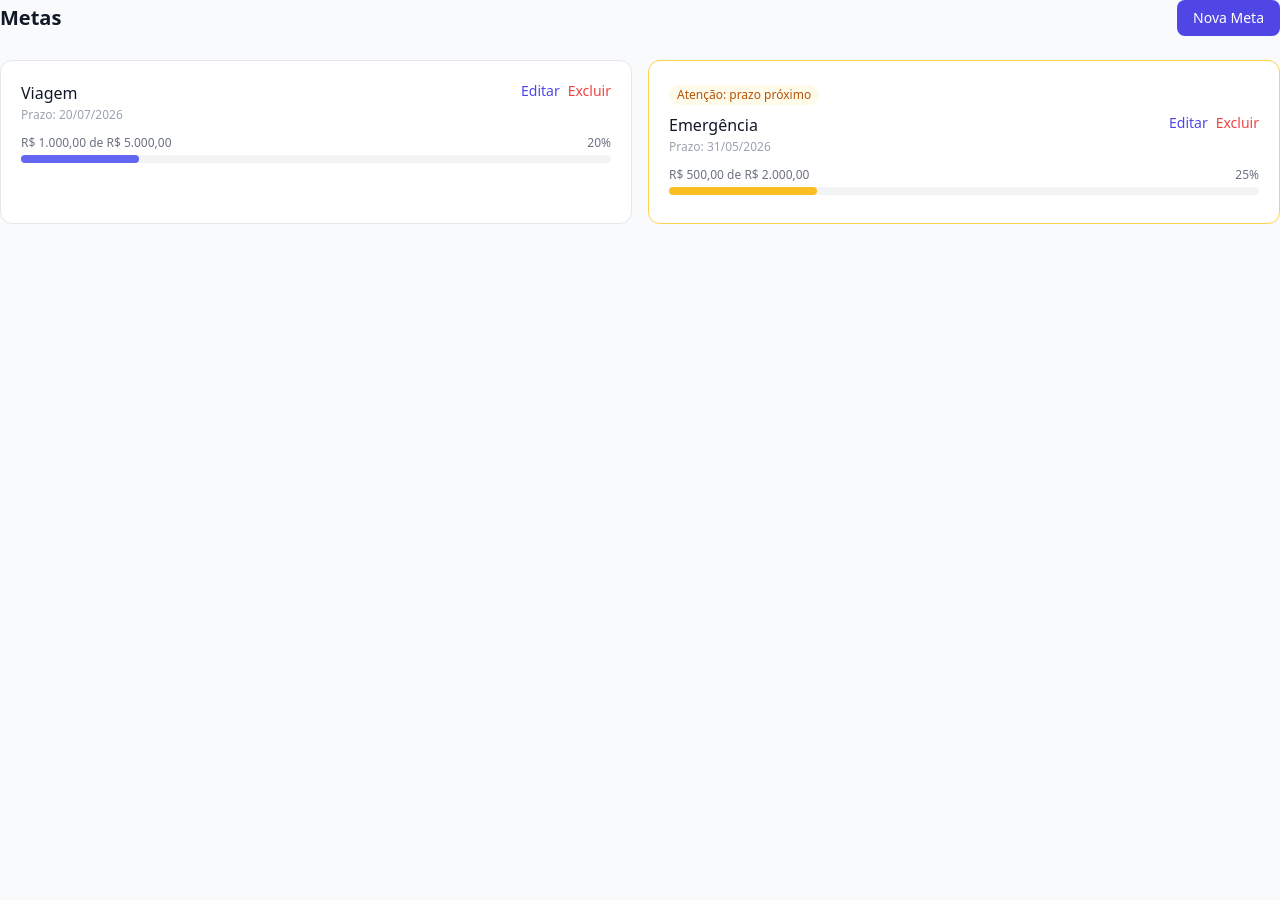
Goals page › opens modal when "Nova Meta" is clicked
expect the text "Viagem" is shown: met, box [21,82,78,104]
Click the button "Nova Meta".
click(1228, 18)  # box [1177,0,1279,36]
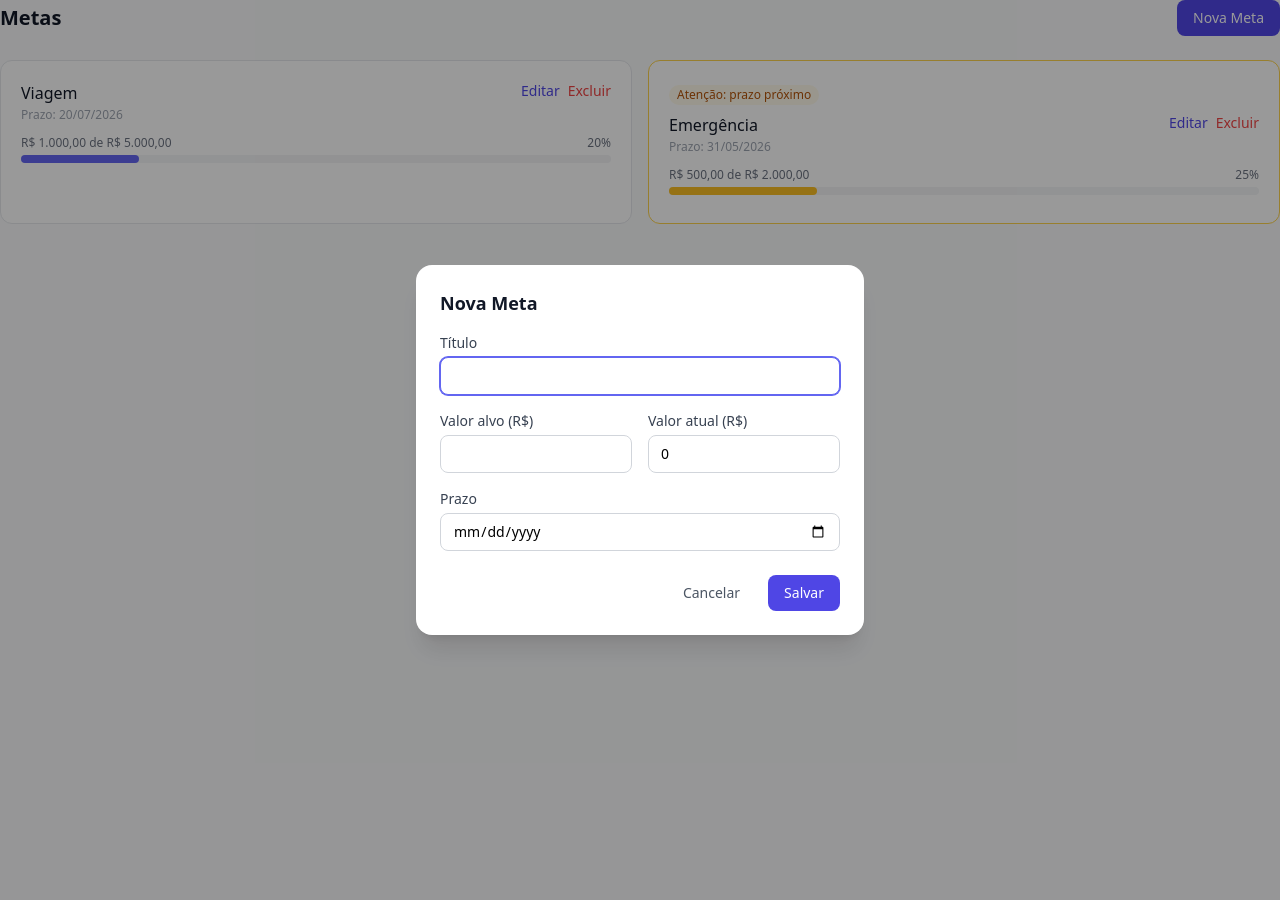
expect the heading "Nova Meta" is shown: met, box [440,291,538,315]
